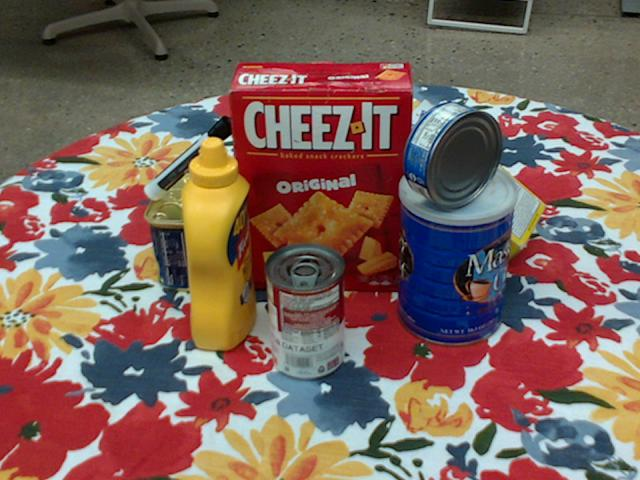cracker_box: (230, 62, 416, 288)
gelatin_box: (182, 152, 268, 234)
large_marker: (144, 115, 238, 200)
master_chef_can: (398, 160, 516, 348)
mug: (335, 124, 420, 224)
mustard_bottle: (181, 138, 255, 351)
potted_meat_can: (143, 171, 219, 292)
sugar_box: (373, 100, 547, 269)
tomato_soup_can: (263, 243, 344, 380)
tuna_fish_can: (405, 101, 503, 209)
